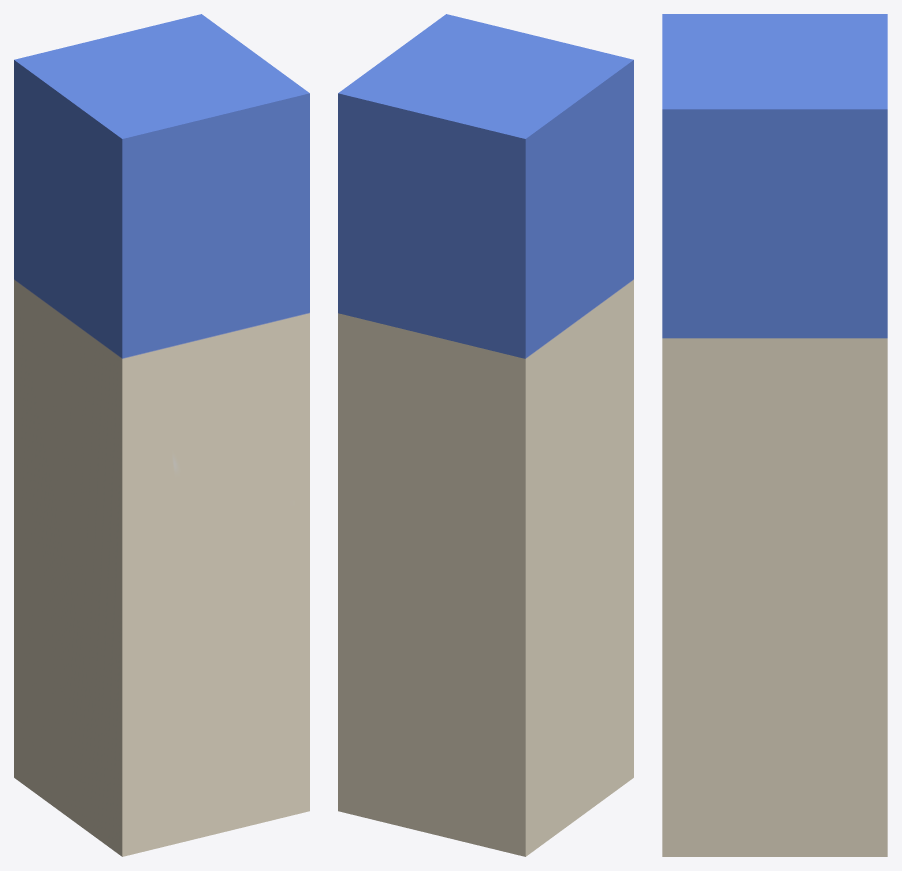
Rendered from PILLAR.fbx.
The picture shows the model from 3 angles, left to right: view 1: azimuth 30°, elevation 25°; view 2: azimuth 150°, elevation 25°; view 3: azimuth 270°, elevation 25°; orthographic projection. The views are drawn at different scales.
Visible parts, largest first — view 1: Cube; view 2: Cube; view 3: Cube.
Part boxes in pixels (left/top/right/bottom): Cube: left=14, top=14, right=309, bottom=856; Cube: left=338, top=14, right=633, bottom=856; Cube: left=662, top=14, right=887, bottom=856.
Size of the model in its own units: 60.69 by 222 by 60.69.
1 material, 1 textured.
